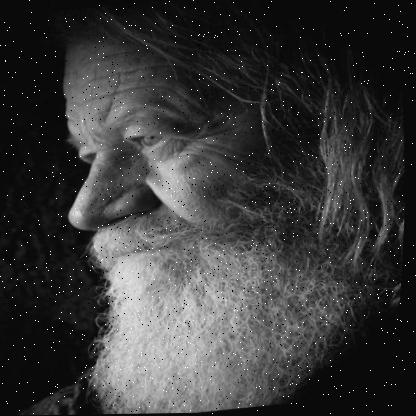person: (17, 0, 416, 415)
